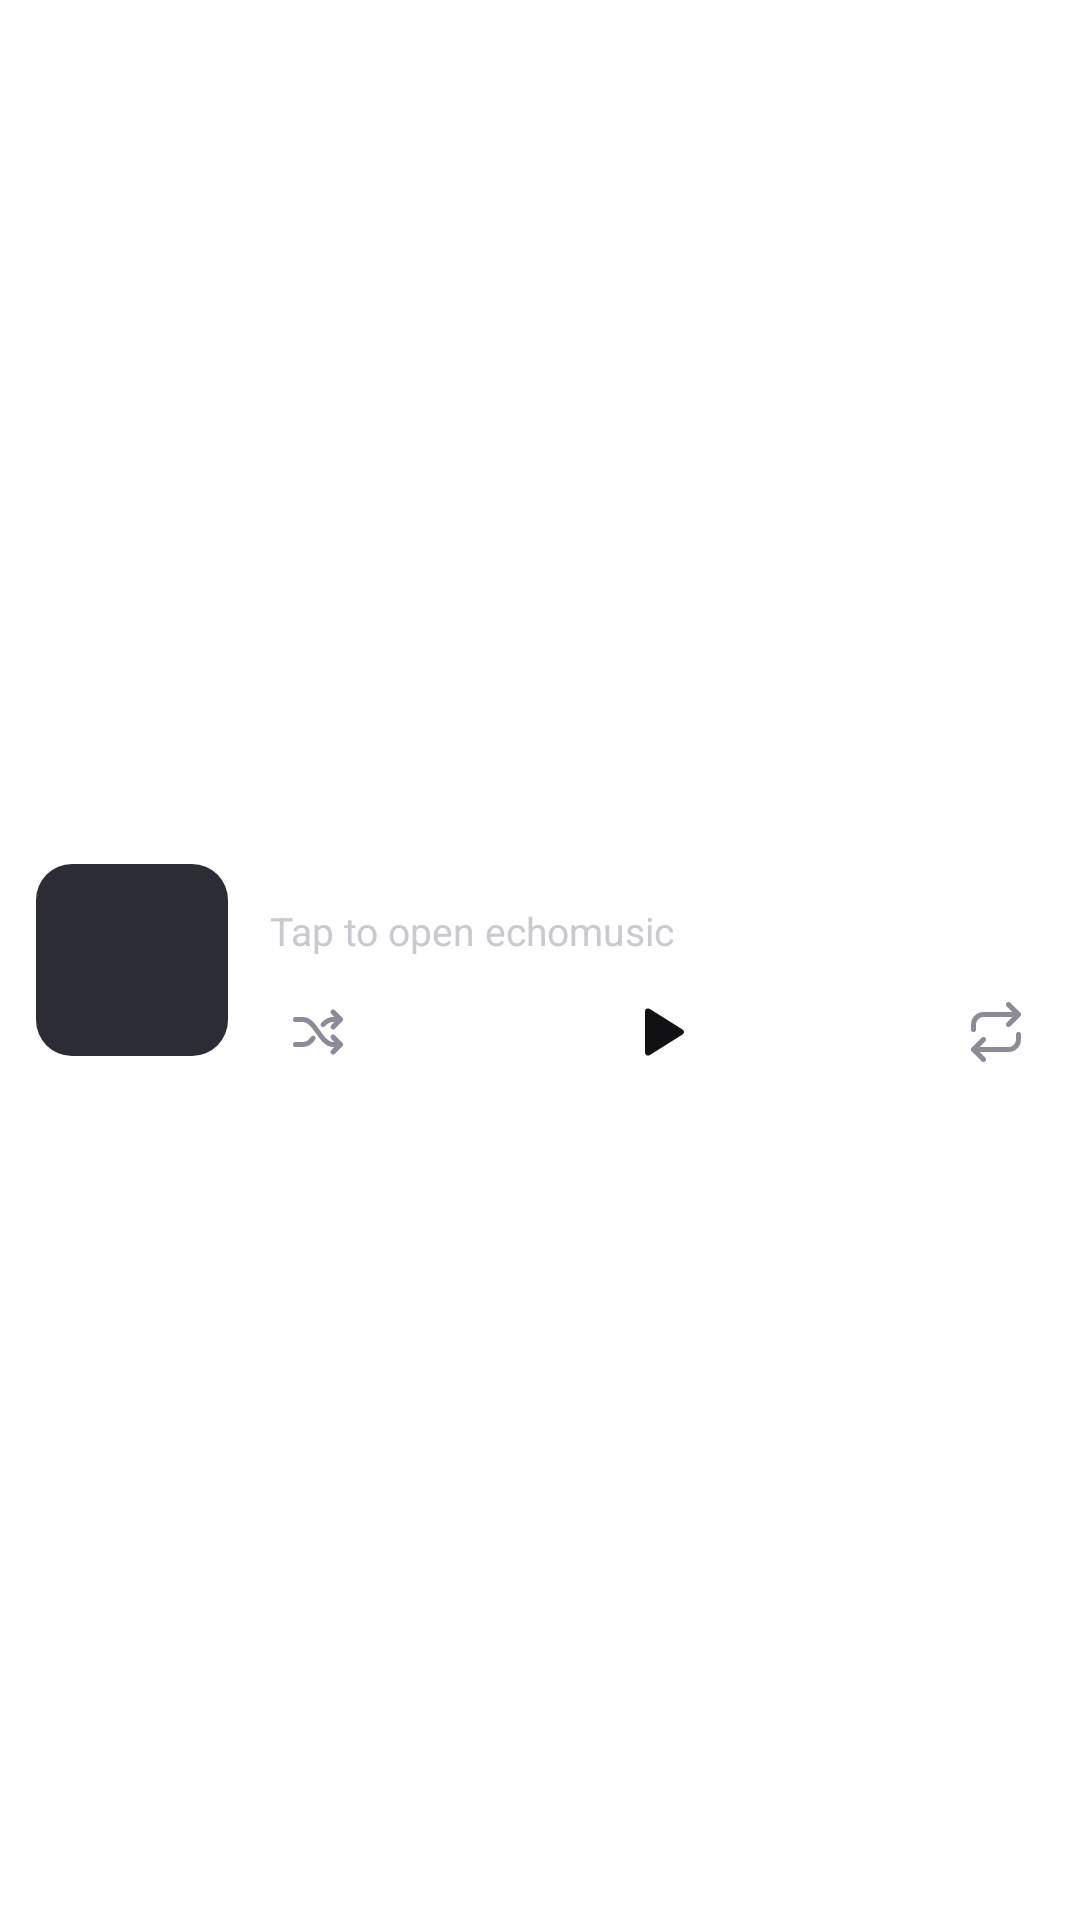

Icons on this 1080px×1920px Android screen, each with the point to tap as [x,y]:
Play/Pause: [664,1032]
Shuffle playlist/album first: [318,1032]
